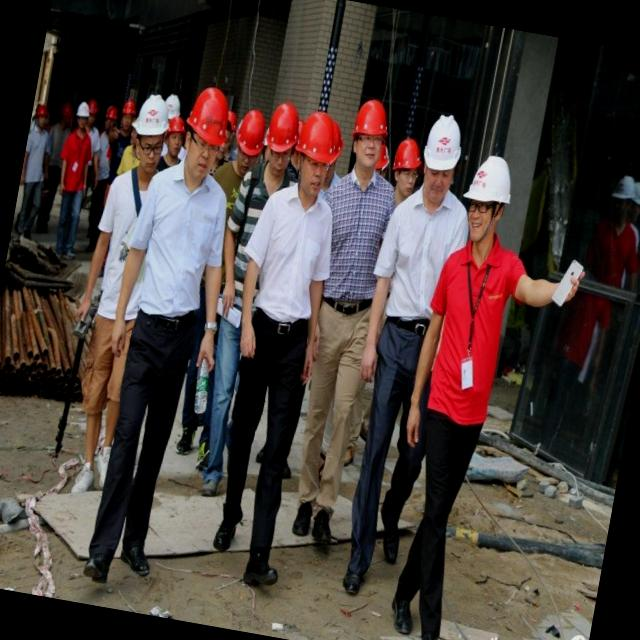helmet: (180, 81, 235, 156), (417, 110, 471, 180), (461, 147, 519, 210), (261, 91, 305, 161), (293, 106, 345, 162), (234, 96, 272, 164), (356, 91, 389, 143)
no-vest: (124, 168, 233, 352), (420, 252, 520, 440), (244, 180, 330, 354), (380, 182, 468, 338)
